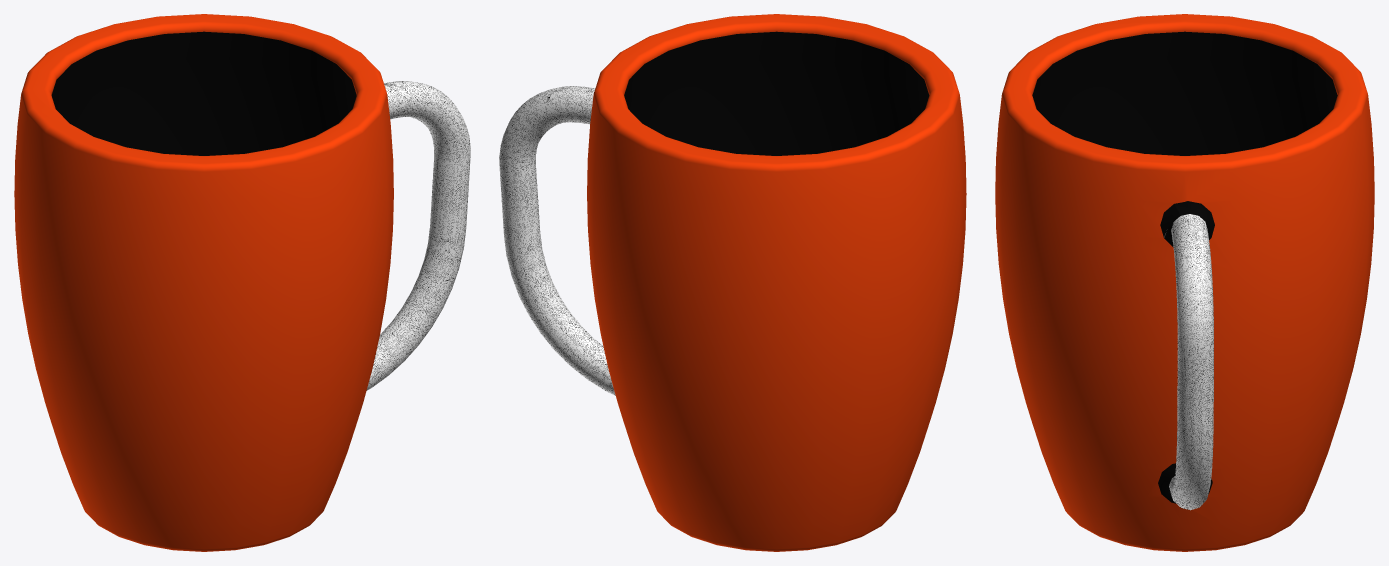
The model's file is mug_16_origin_gt_7.dae.
3 views of the same model, side by side, from view 1: azimuth 30°, elevation 25°; view 2: azimuth 150°, elevation 25°; view 3: azimuth 270°, elevation 25° (orthographic).
Visible parts, largest first — view 1: SketchUp (×4); view 2: SketchUp (×4); view 3: SketchUp (×5).
Part boxes in pixels (bbox=[...]): SketchUp (×4): bbox=[14, 14, 470, 551]; SketchUp (×4): bbox=[499, 14, 966, 551]; SketchUp (×5): bbox=[995, 14, 1374, 551].
Bounding box in the file's own units: 7.13 × 5.4 × 6.5.
